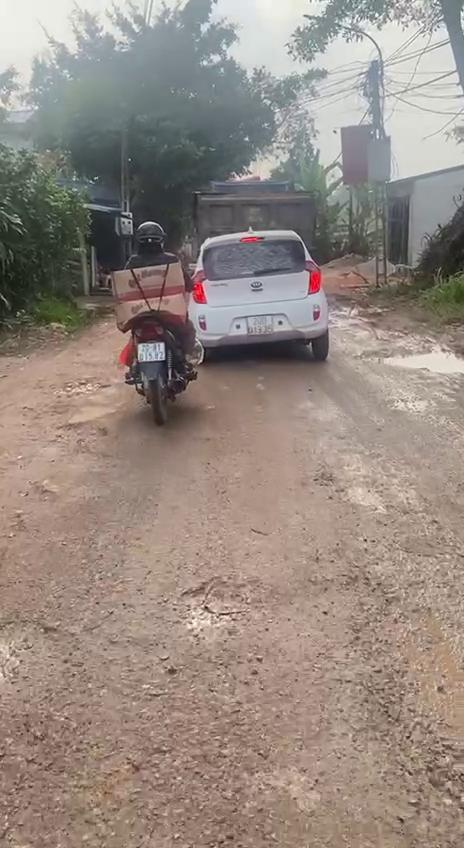pothole: (359, 571, 464, 848), (176, 570, 235, 640), (356, 344, 464, 378), (45, 418, 114, 466), (50, 378, 115, 402)
